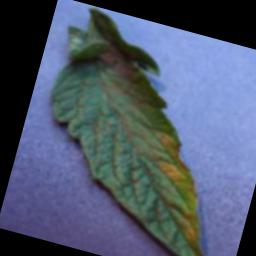Leaf_Mold: (132, 132, 225, 249)
